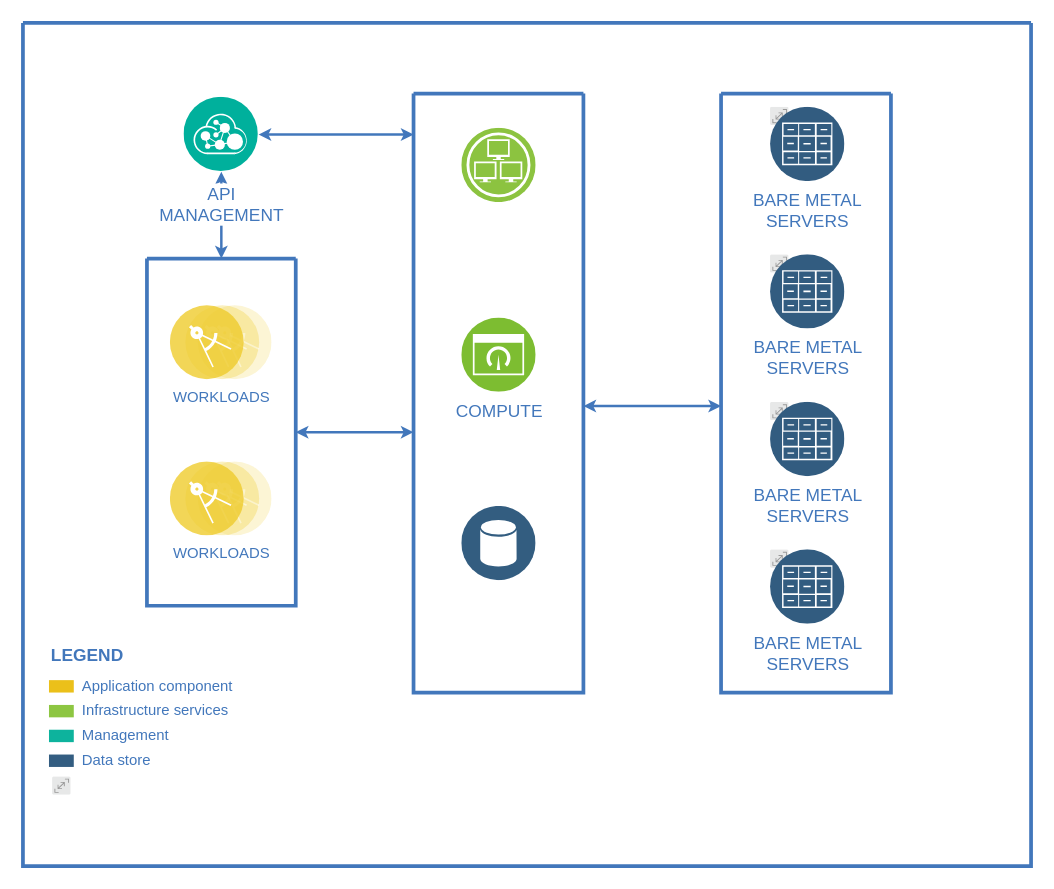
Image size: 1054x889. Some labels were removed from this diagram. The centre of each missing label's shape, as x and y in pixels:
Scalable: the point at 61,785
SOFTWARE DEFINED NETWORKING: the point at 498,165
SOFTWARE DEFINED STORAGE: the point at 498,543
